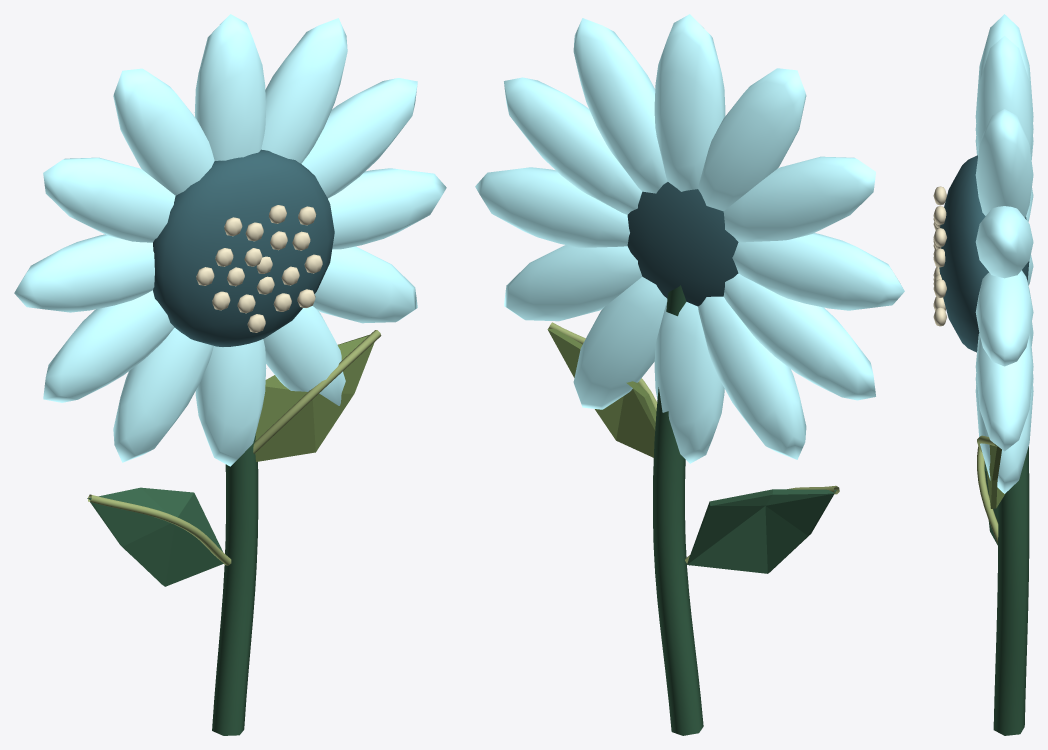
File: moonflower.glb
The picture shows the model from 3 angles, left to right: view 1: azimuth 30°, elevation 25°; view 2: azimuth 150°, elevation 25°; view 3: azimuth 270°, elevation 25°; orthographic projection. The views are drawn at different scales.
Parts seen in each view (by area): view 1: PetalCrown.001, FlowerStem.001; view 2: PetalCrown.001, FlowerStem.001; view 3: PetalCrown.001, FlowerStem.001.
Part boxes in pixels (x1,y1,x2,y2): PetalCrown.001: [14, 14, 446, 466]; FlowerStem.001: [87, 330, 381, 735]; PetalCrown.001: [475, 14, 904, 463]; FlowerStem.001: [547, 285, 839, 735]; PetalCrown.001: [933, 14, 1033, 493]; FlowerStem.001: [977, 435, 1029, 735].
Bounding box in the file's own units: 1.05 × 1.67 × 0.218.
